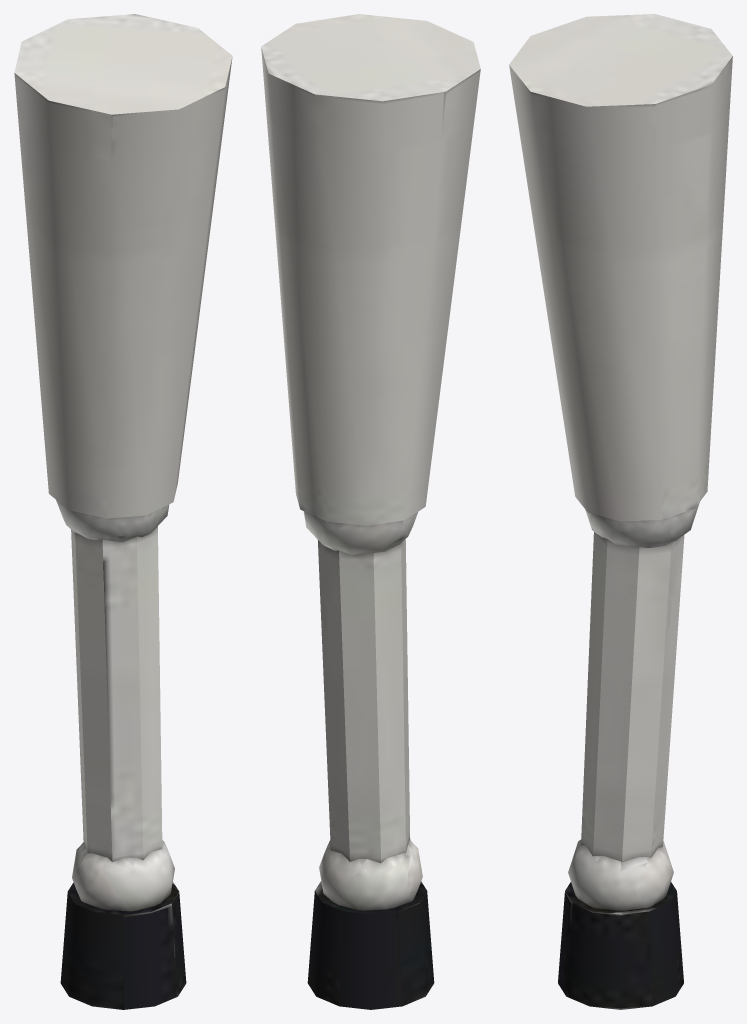
The model's file is caballo_pata.glb.
The picture shows the model from 3 angles, left to right: view 1: azimuth 30°, elevation 25°; view 2: azimuth 150°, elevation 25°; view 3: azimuth 270°, elevation 25°; orthographic projection.
Visible parts, largest first — view 1: caballo_pata; view 2: caballo_pata; view 3: caballo_pata.
Part boxes in pixels (<box>): caballo_pata: <box>14,14,232,1009</box>; caballo_pata: <box>261,14,480,1009</box>; caballo_pata: <box>509,14,732,1009</box>.
Size of the model in its own units: 0.2092 by 1 by 0.2198.
1 material, 1 textured.
